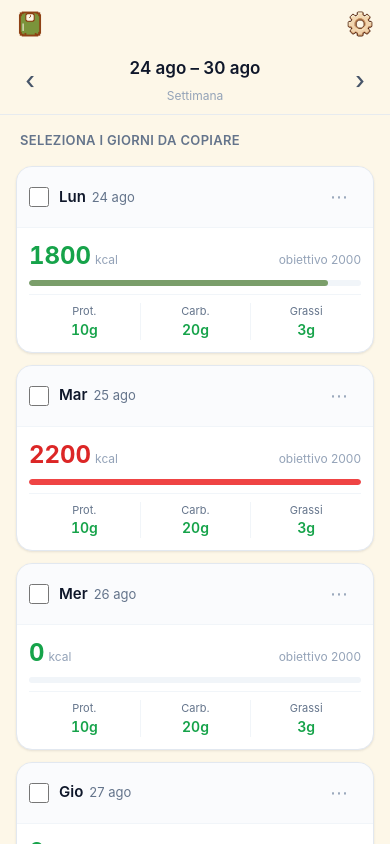
WeekPage › opens the copy dialog from the action bar with the selected source dates
What coordinates should you click on to do the following:
click the checkbox named "Seleziona 2026-08-24"
I would click on:
 (39, 197)
Its box is left=29, top=187, right=49, bottom=207.
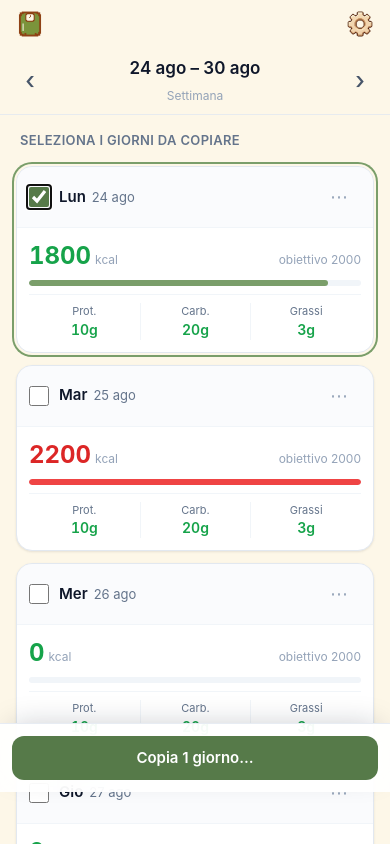
What coordinates should you click on to do the following:
click the checkbox named "Seleziona 2026-08-25"
I would click on:
 (39, 396)
Its box is left=29, top=386, right=49, bottom=406.
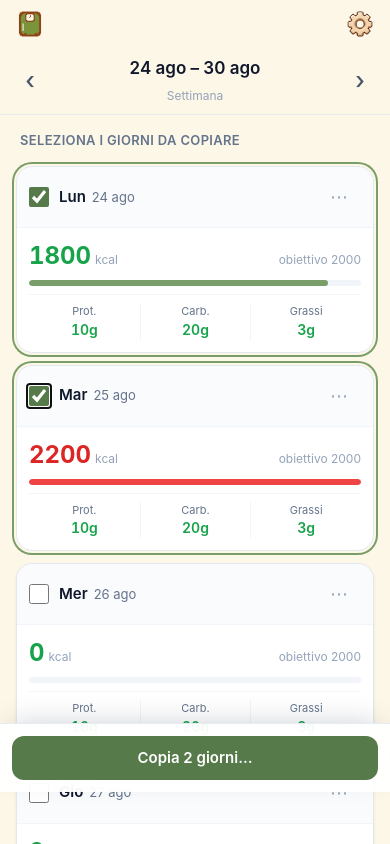
What coordinates should you click on to do the following:
click the button "Copia 2 giorni…"
I would click on:
 (195, 758)
Its box is left=12, top=736, right=378, bottom=780.
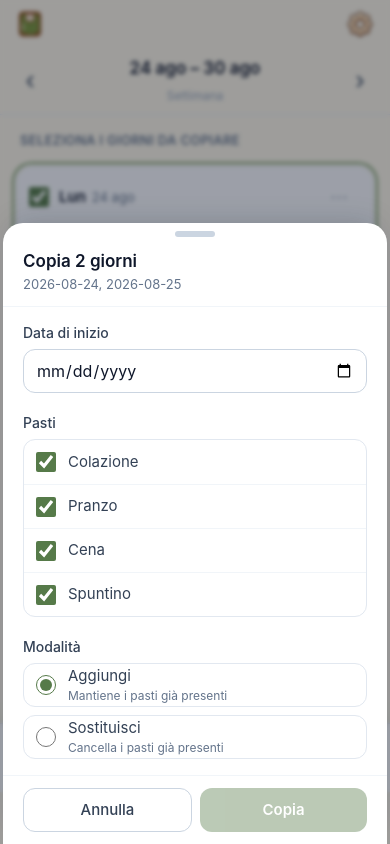
Expected: the dialog named "copia giorni" is shown
